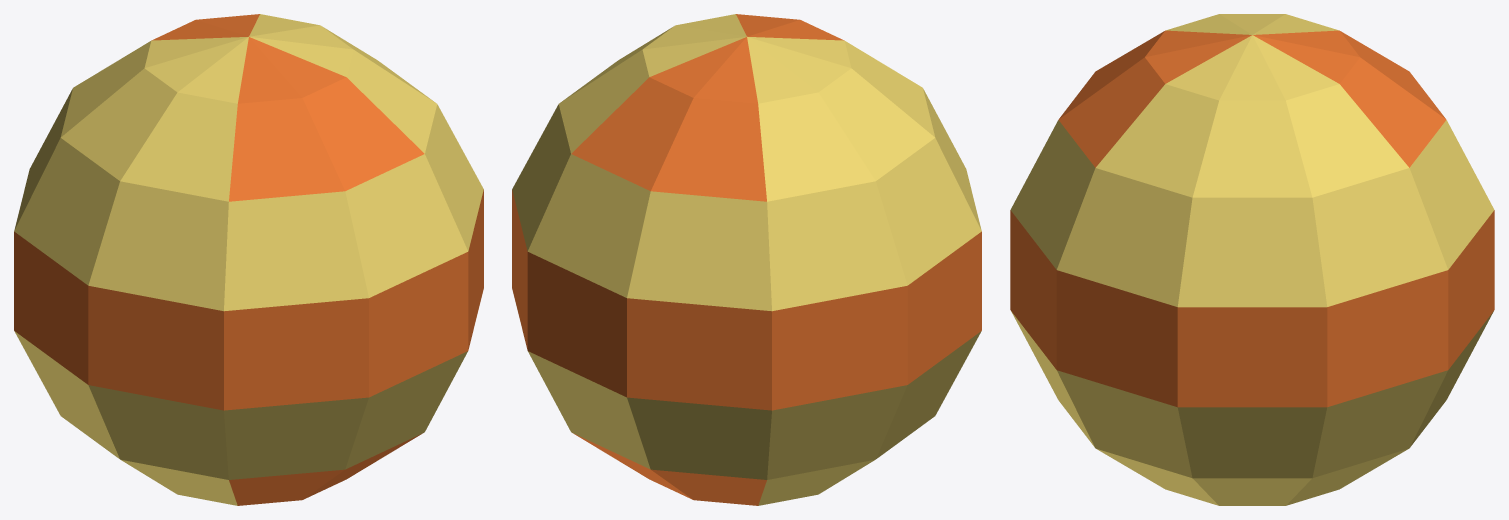
The model's file is fire.glb.
The picture shows the model from 3 angles, left to right: view 1: azimuth 30°, elevation 25°; view 2: azimuth 150°, elevation 25°; view 3: azimuth 270°, elevation 25°; orthographic projection.
Visible parts, largest first — view 1: Ball; view 2: Ball; view 3: Ball.
Boxes of the visible parts, left/top/right/bottom form: Ball: left=14, top=14, right=483, bottom=505; Ball: left=512, top=14, right=981, bottom=505; Ball: left=1010, top=14, right=1494, bottom=505.
Size of the model in its own units: 0.2782 by 0.3 by 0.2925.
